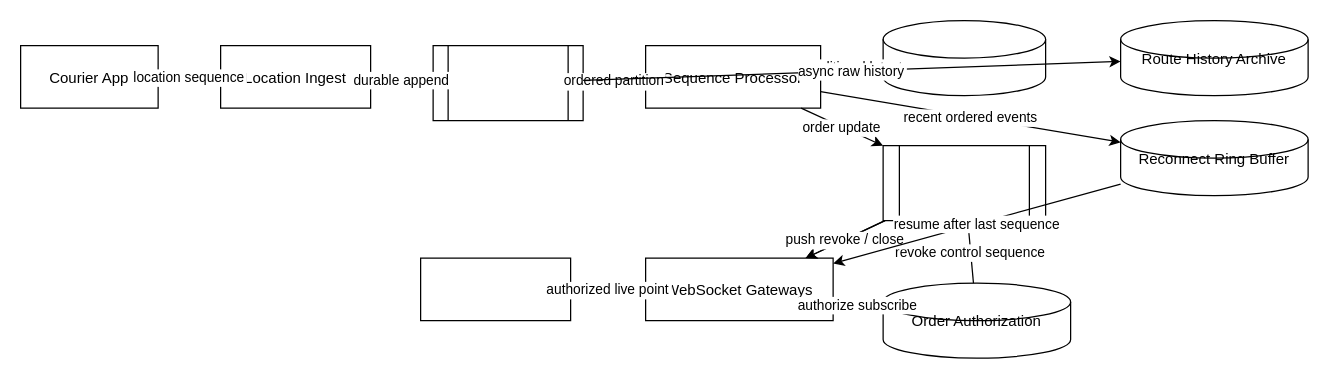
Image size: 1329x379. Some labels were removed from this diagram. Each missing label, with the box of its shape:
Customer App: (419, 257, 571, 321)
Last Location KV: (882, 19, 1046, 96)
Location Log: (432, 44, 583, 121)
Regional PubSub: (882, 144, 1046, 221)
